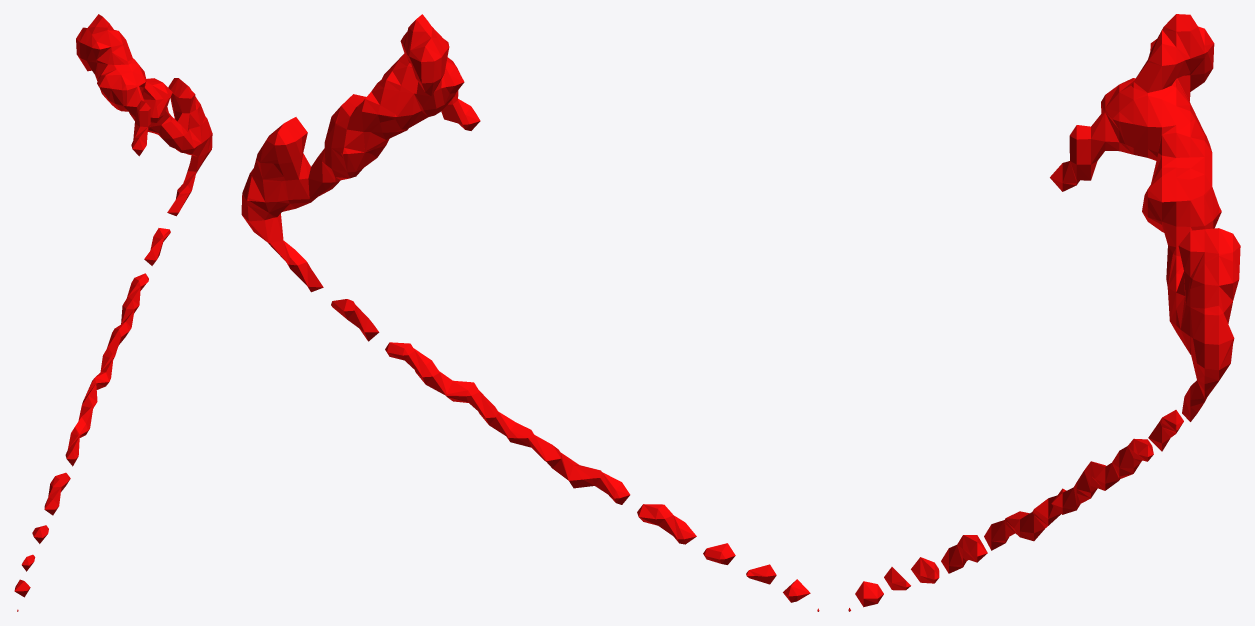
The model's file is ybdG_coarse.dae.
3 views of the same model, side by side, from view 1: azimuth 30°, elevation 25°; view 2: azimuth 150°, elevation 25°; view 3: azimuth 270°, elevation 25° (orthographic). The views are drawn at different scales.
Parts seen in each view (by area): view 1: ybdG; view 2: ybdG; view 3: ybdG.
Boxes of the visible parts, bbox=[...] form: ybdG: bbox=[14, 14, 212, 611]; ybdG: bbox=[241, 14, 819, 611]; ybdG: bbox=[848, 14, 1240, 611].
Size of the model in its own units: 218 by 318 by 152.
